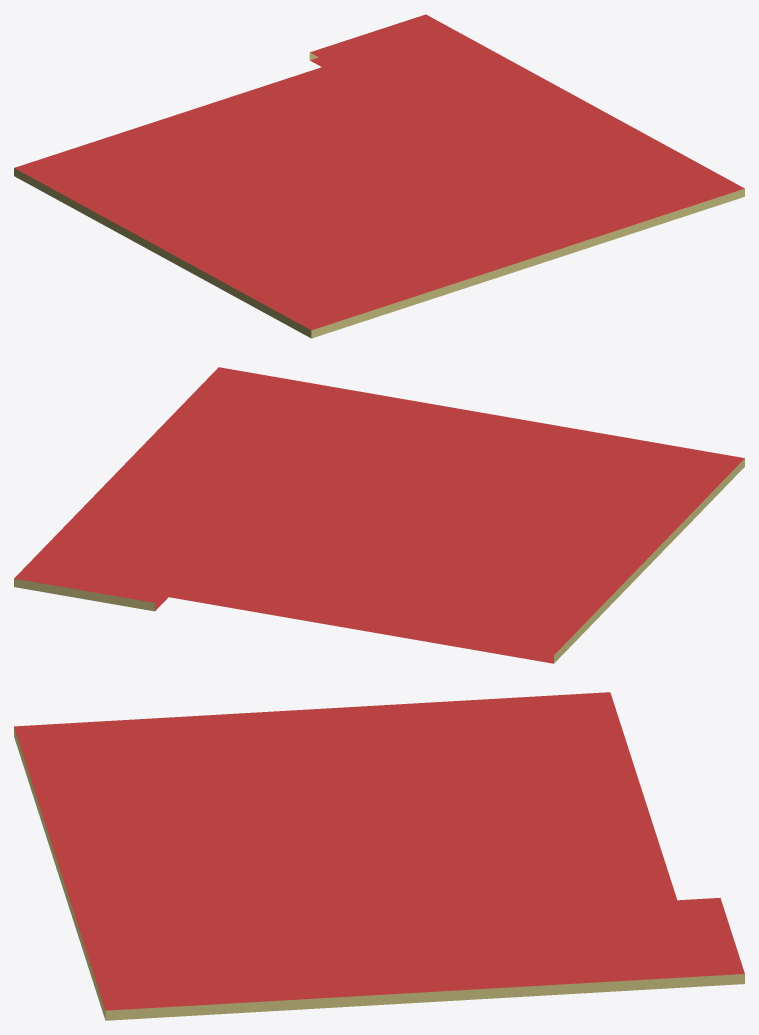
3 renders of one model, top to bottom at view 1: azimuth 30°, elevation 25°; view 2: azimuth 150°, elevation 25°; view 3: azimuth 270°, elevation 25°, orthographic. The views are drawn at different scales.
Size of the model in its own units: 6.74 by 6.54 by 0.1.
